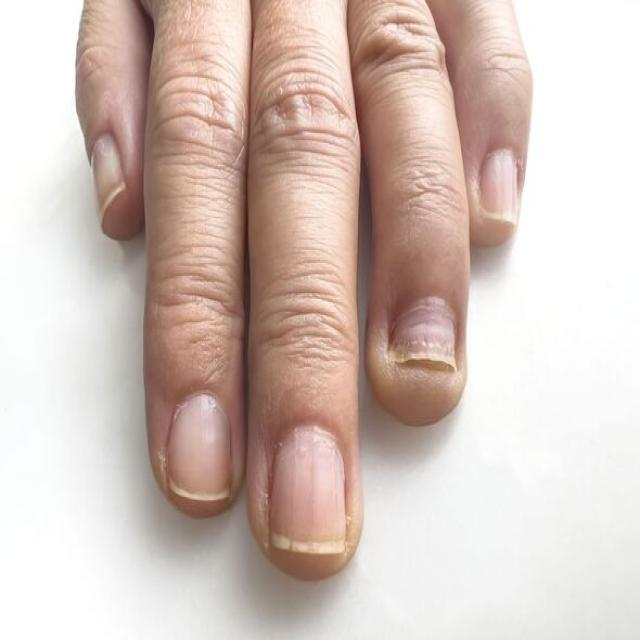Fingernail: (270, 427, 346, 554), (168, 395, 232, 501), (391, 299, 455, 369), (480, 153, 519, 224), (92, 135, 124, 215)
